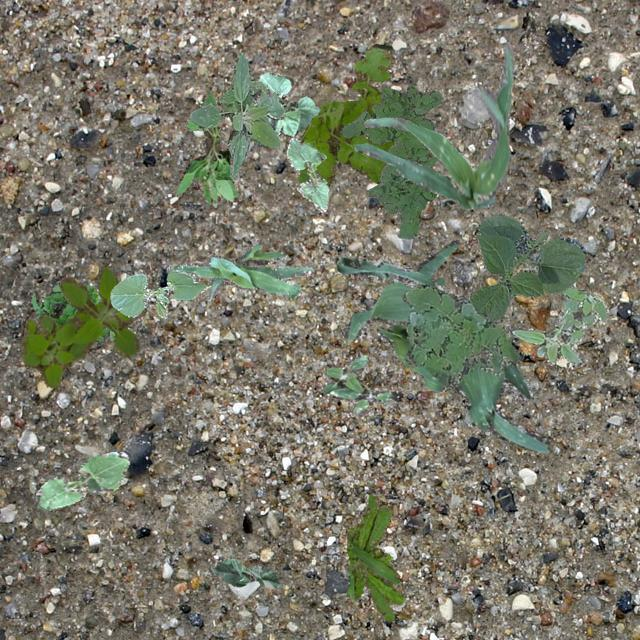crop: (336, 258, 548, 452), (352, 42, 514, 210), (376, 238, 460, 392), (468, 214, 584, 322), (188, 51, 284, 178), (165, 243, 314, 300), (34, 450, 128, 510), (110, 268, 208, 318), (256, 70, 320, 136), (286, 137, 328, 210), (210, 556, 280, 588)
weed: (340, 85, 440, 238), (22, 266, 138, 386), (297, 42, 393, 184), (400, 284, 520, 388), (508, 284, 608, 366), (346, 492, 402, 620), (172, 90, 236, 202), (30, 280, 114, 342), (322, 354, 392, 414)
